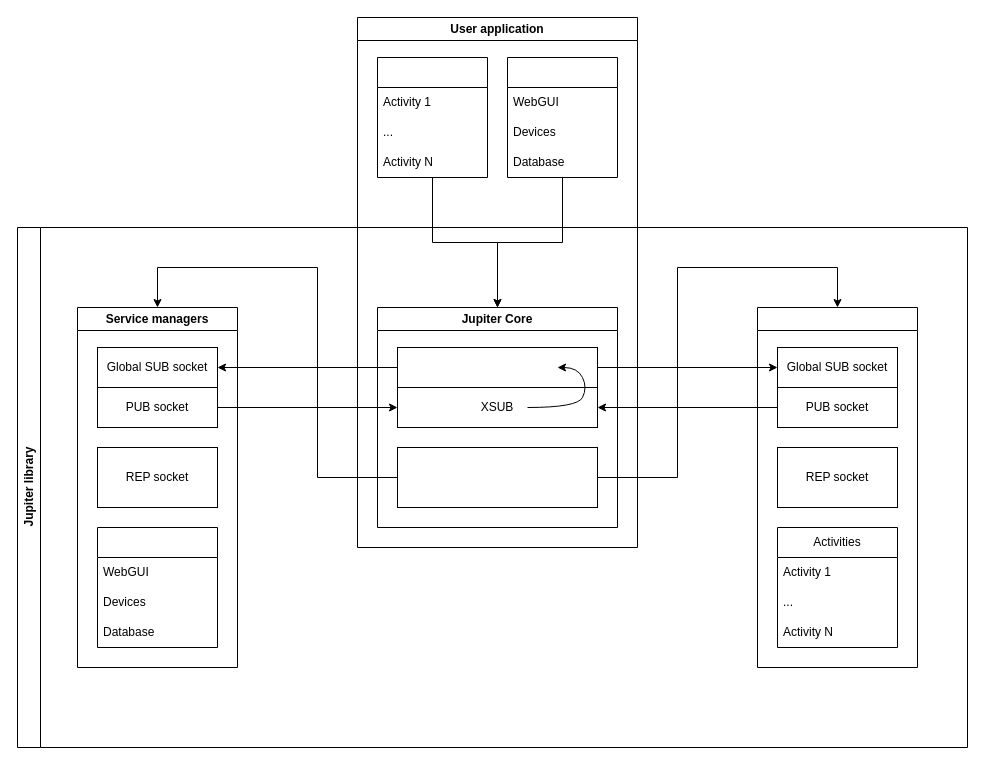
Some shapes in this 985 by 765 pixel diagram are drawn without their labels. The shapes that lost their labels are listed below. From the top down, each one's box as (x1, y1, x2, y2) in pixels, then its label:
(376, 56, 488, 178): Activity data
(506, 56, 618, 178): Service data
(396, 346, 598, 388): Global PUB socket
(396, 446, 598, 508): Subprocess initialization and keepalive
(756, 306, 918, 668): Activity managers
(96, 526, 218, 648): Services
